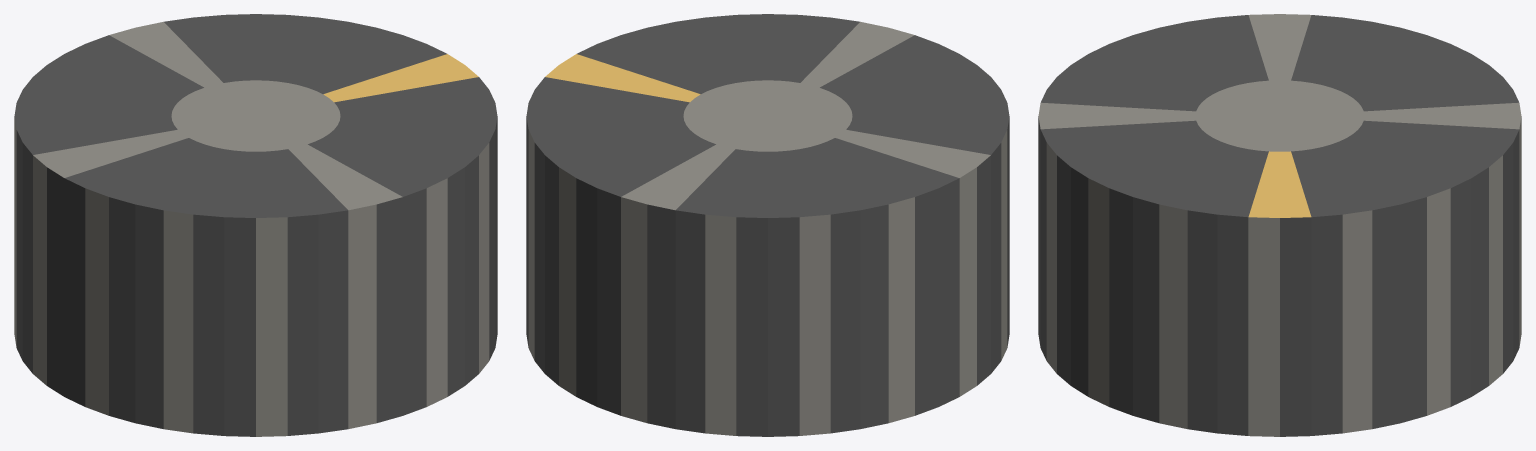
The model's file is wheel.glb.
3 views of the same model, side by side, from view 1: azimuth 30°, elevation 25°; view 2: azimuth 150°, elevation 25°; view 3: azimuth 270°, elevation 25° (orthographic).
Bounding box in the file's own units: 2 × 1 × 2.
